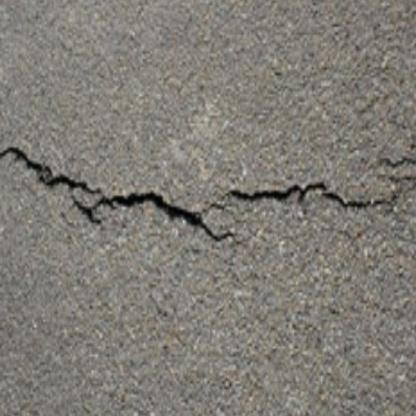Cracks: (0, 144, 390, 247), (380, 131, 416, 181)
